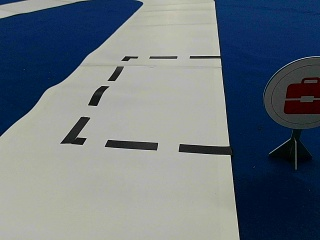company: (263, 57, 319, 127)
